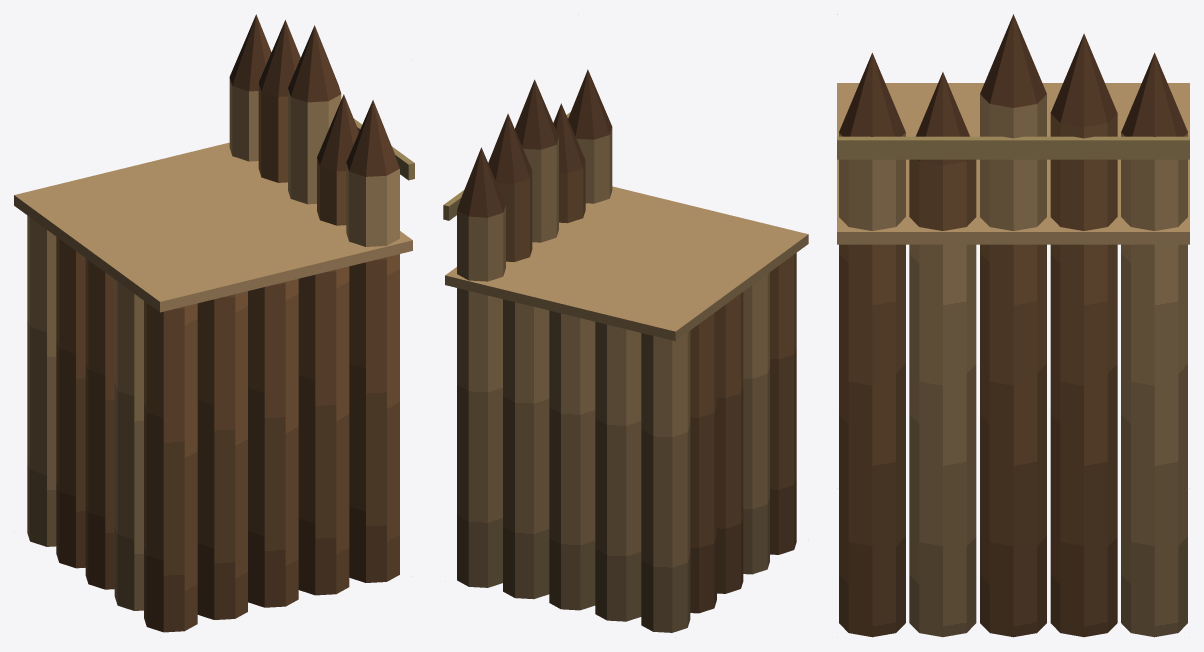
The model's file is perimeter_wall_wood_f13.glb.
The picture shows the model from 3 angles, left to right: view 1: azimuth 30°, elevation 25°; view 2: azimuth 150°, elevation 25°; view 3: azimuth 270°, elevation 25°; orthographic projection. The views are drawn at different scales.
Bounding box in the file's own units: 2.01 × 3.9 × 2.
1 material, 1 textured.
